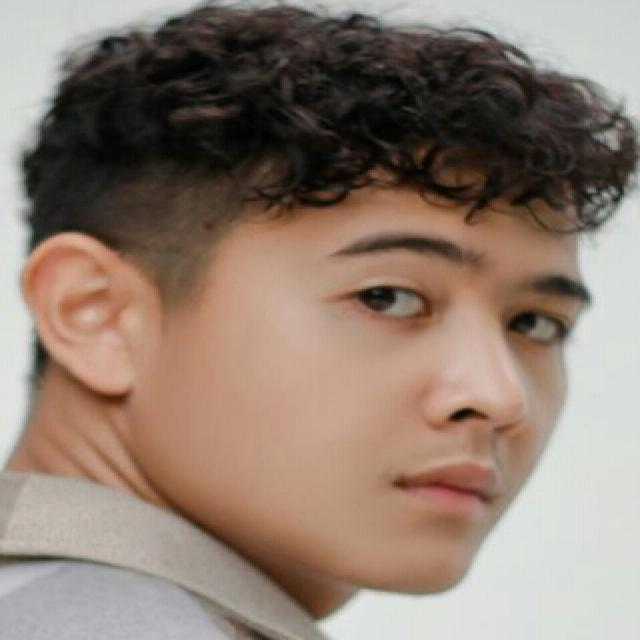front: (211, 235, 596, 584)
